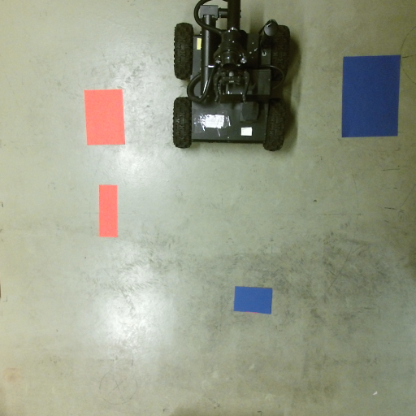Blue: (340, 53, 403, 138), (231, 284, 276, 315)
Jaguar: (172, 0, 293, 154)
Red: (81, 87, 128, 147), (95, 183, 121, 239)
